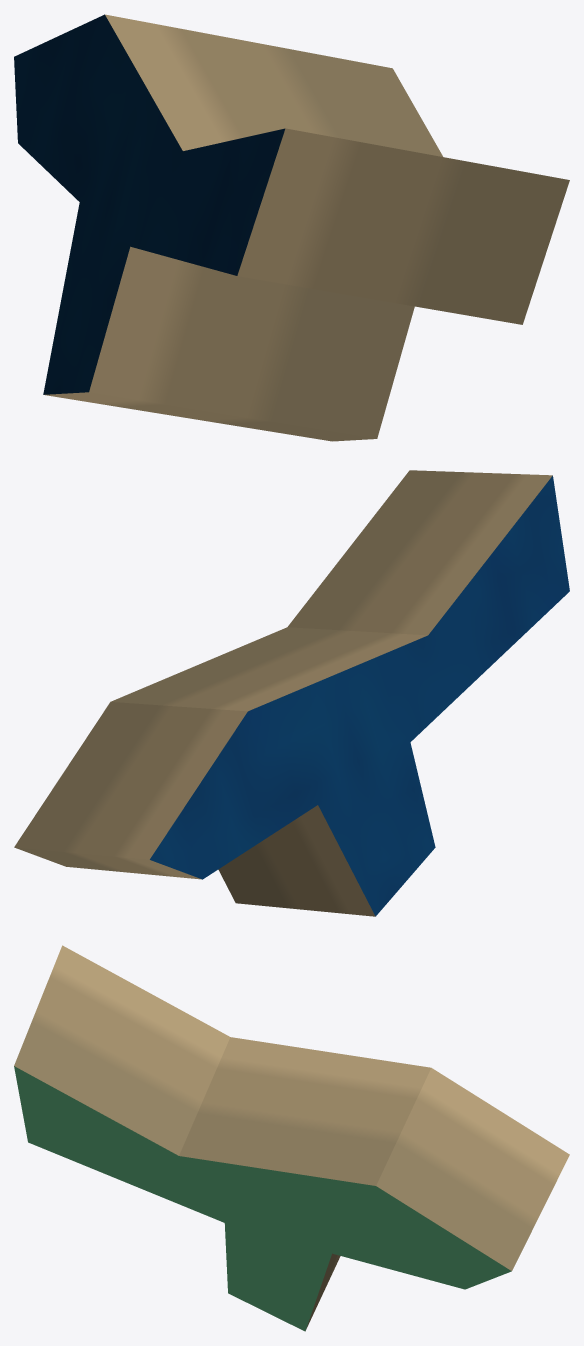
File: 062d_Laos.glb
3 renders of one model, top to bottom at view 1: azimuth 30°, elevation 25°; view 2: azimuth 150°, elevation 25°; view 3: azimuth 270°, elevation 25°, orthographic. The views are drawn at different scales.
Visible parts, largest first — view 1: part_0; view 2: part_0; view 3: part_0.
Part boxes in pixels (x1=…): part_0: x1=14, y1=14, x2=569, y2=441; part_0: x1=14, y1=470, x2=569, y2=916; part_0: x1=14, y1=945, x2=569, y2=1331.
Bounding box in the file's own units: 0.323 × 0.3756 × 0.604.
1 material, 1 textured.
